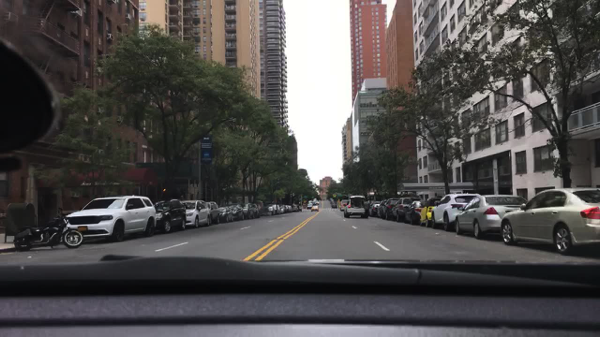car: (500, 186, 600, 255), (66, 196, 156, 242), (454, 193, 527, 238), (432, 193, 476, 230), (151, 198, 185, 233), (180, 200, 212, 228), (416, 197, 440, 227), (392, 196, 418, 218), (344, 195, 369, 217), (403, 198, 425, 222), (239, 204, 260, 220), (217, 205, 233, 222), (227, 205, 244, 220), (385, 198, 397, 218), (206, 202, 217, 222), (378, 200, 390, 218), (369, 202, 381, 216), (267, 204, 279, 215), (341, 197, 349, 212), (275, 205, 285, 213), (331, 200, 339, 207), (285, 206, 292, 213), (310, 206, 318, 212), (290, 204, 298, 210), (313, 199, 319, 205), (306, 203, 312, 209), (328, 198, 335, 202), (296, 205, 302, 209)
motor: (4, 200, 83, 249)
traffic sign: (302, 195, 309, 199)
